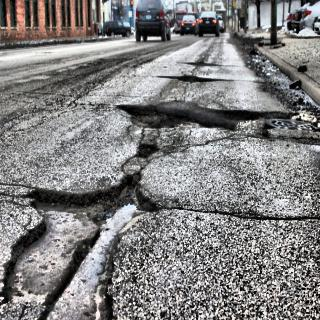crack: (163, 201, 320, 225)
pothole: (0, 167, 159, 320), (115, 95, 314, 134), (155, 72, 269, 88), (134, 138, 159, 159), (182, 59, 225, 68)
